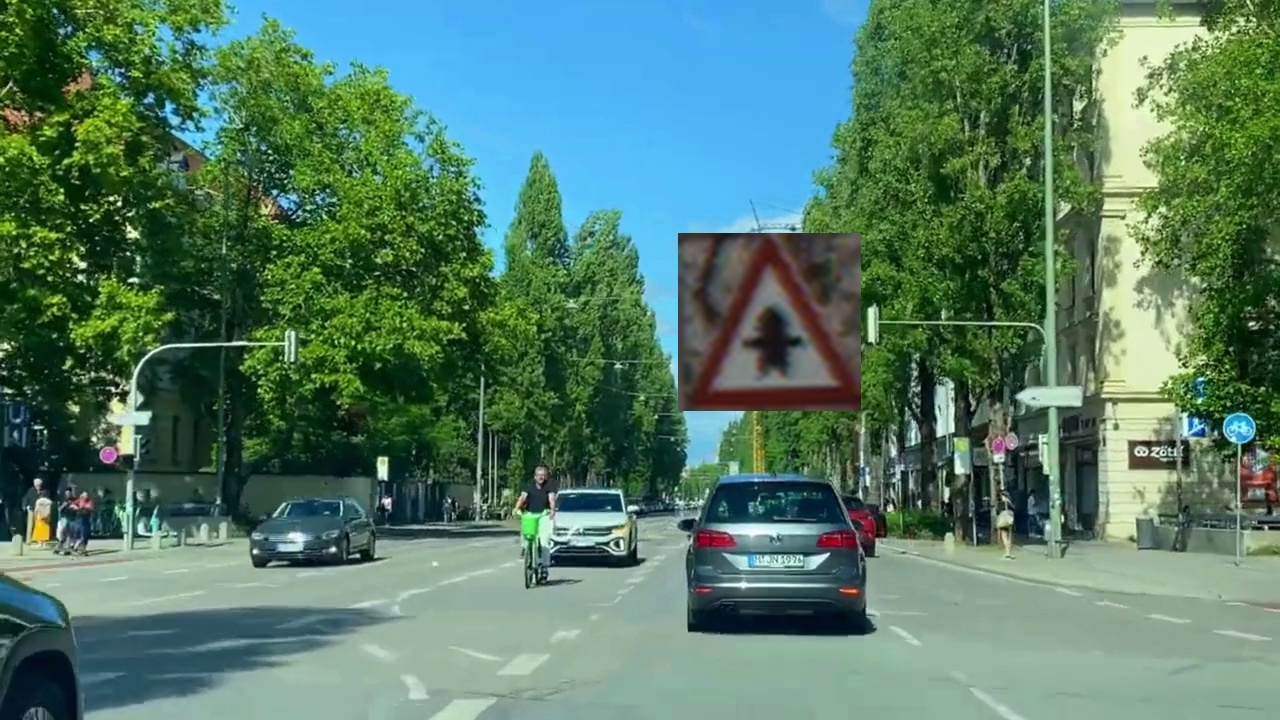Right-of-way: (678, 233, 861, 411)
